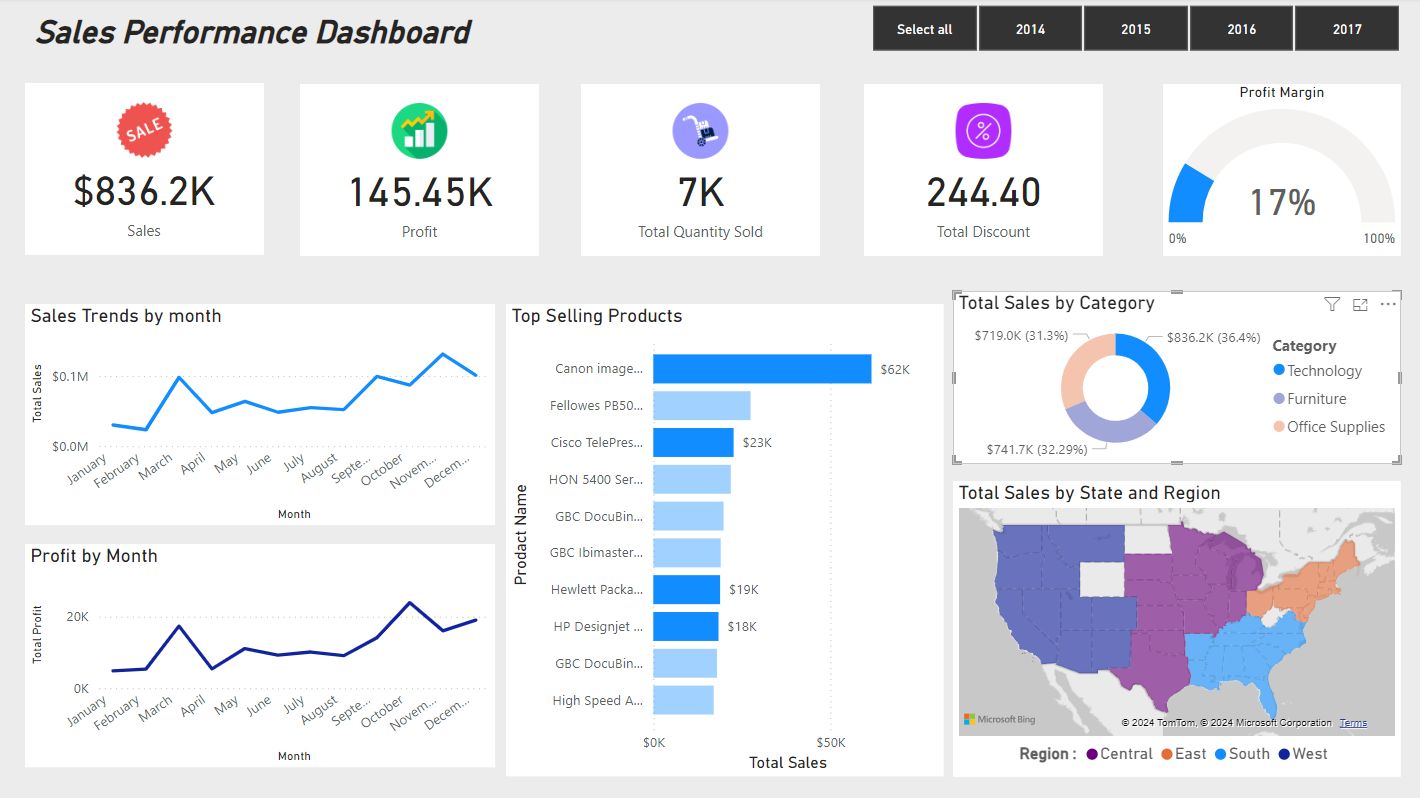

What the dashboard file says about the page in this screenshot:
{"tool":"powerbi","page":{"name":"Page 1","canvas":[1280,720],"ordinal":0},"visuals":[{"type":"textbox","box":[0,0,777.3,60.9],"z":0},{"type":"slicer","title":"Filter by Date","fields":{"Values":["SellesSuperStore.Order_Date.Variation.Date Hierarchy.Year"]},"box":[759,0,521,54.4],"z":1000},{"type":"cardVisual","fields":{"Data":["SellesSuperStore.Total Profit"]},"box":[272,77,214,154],"z":3000},{"type":"cardVisual","fields":{"Data":["SellesSuperStore.Total Quantity Sold"]},"box":[524,77,214,154],"z":4000},{"type":"cardVisual","fields":{"Data":["SellesSuperStore.Total Discount"]},"box":[777,77,214,154],"z":5000},{"type":"gauge","fields":{"Y":["SellesSuperStore.Profit Margin"]},"box":[1045,77,213,154],"z":6000},{"type":"clusteredBarChart","title":"Top Selling Products","fields":{"Y":["SellesSuperStore.Total Sales"],"Category":["SellesSuperStore.Product_Name"]},"box":[456.5,273.9,391.9,423.3],"z":7000},{"type":"lineChart","title":"Sales Trends by month","fields":{"Category":["SellesSuperStore.Order_Date.Variation.Date Hierarchy.Month"],"Y":["SellesSuperStore.Total Sales"]},"box":[25.8,273.9,420.5,198.3],"z":8000},{"type":"filledMap","fields":{"Category":["SellesSuperStore.State"],"Series":["SellesSuperStore.Region"]},"box":[857,432.2,400.9,264.8],"z":9000},{"type":"donutChart","fields":{"Y":["SellesSuperStore.Total Sales"],"Category":["SellesSuperStore.Category"]},"box":[856.7,262.8,401.2,154.9],"z":10000},{"type":"lineChart","title":"Profit by Month","fields":{"Category":["SellesSuperStore.Order_Date.Variation.Date Hierarchy.Month"],"Y":["SellesSuperStore.Total Profit"]},"box":[25.8,488.8,420.5,200.1],"z":11000},{"type":"cardVisual","fields":{"Data":["SellesSuperStore.Total Sales"]},"box":[25.8,76.5,213.9,154],"z":11001}]}

Visuals, with their boxes in screenshot pixels (x1, y1, x2, y2), scaled from the page's 1280x720 canvas onto the 1420x798 screenshot:
textbox: BBox(0, 0, 862, 67)
"Filter by Date" slicer: BBox(842, 0, 1419, 60)
cardVisual - SellesSuperStore.Total Profit: BBox(302, 85, 539, 256)
cardVisual - SellesSuperStore.Total Quantity Sold: BBox(581, 85, 819, 256)
cardVisual - SellesSuperStore.Total Discount: BBox(862, 85, 1099, 256)
gauge - SellesSuperStore.Profit Margin: BBox(1159, 85, 1396, 256)
"Top Selling Products" clusteredBarChart: BBox(506, 304, 941, 773)
"Sales Trends by month" lineChart: BBox(29, 304, 495, 523)
filledMap - SellesSuperStore.State x SellesSuperStore.Region: BBox(951, 479, 1395, 773)
donutChart - SellesSuperStore.Total Sales x SellesSuperStore.Category: BBox(950, 291, 1395, 463)
"Profit by Month" lineChart: BBox(29, 542, 495, 764)
cardVisual - SellesSuperStore.Total Sales: BBox(29, 85, 266, 255)
